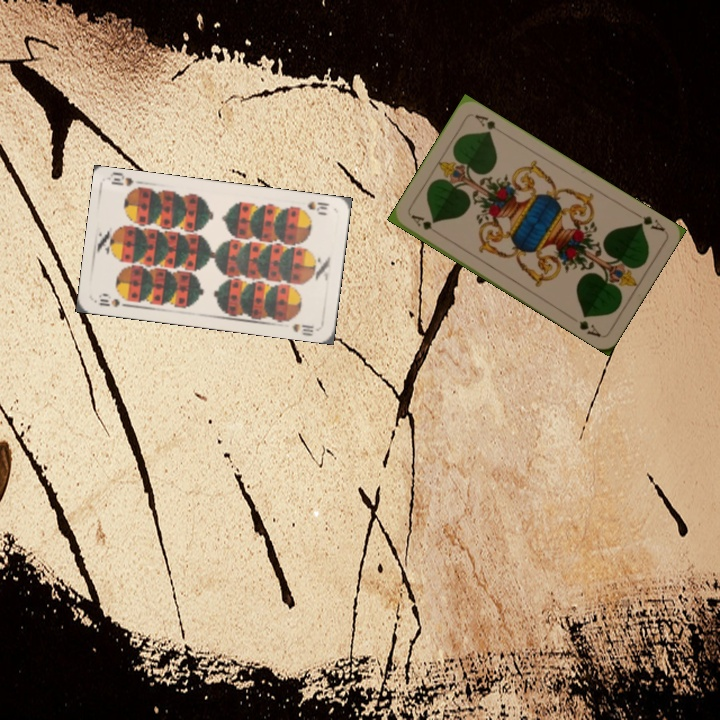GA: (407, 210, 443, 238), (631, 208, 667, 234)
S10: (294, 197, 332, 217), (95, 290, 122, 310)
